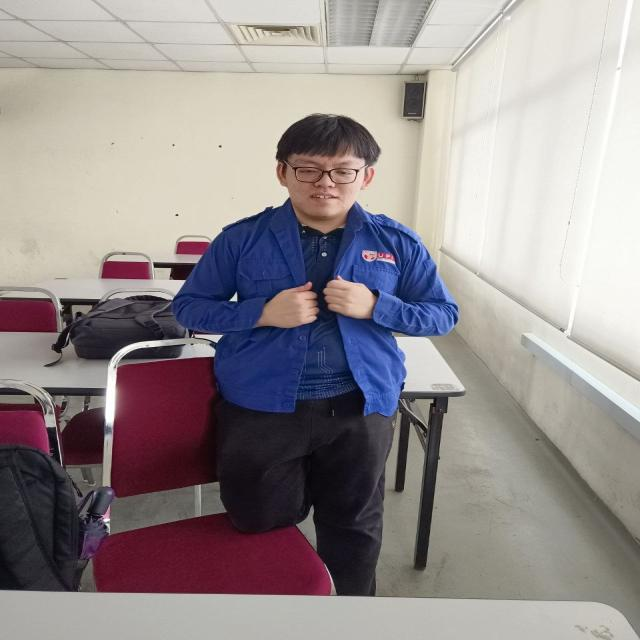person_with_labcoat: (175, 114, 457, 595)
